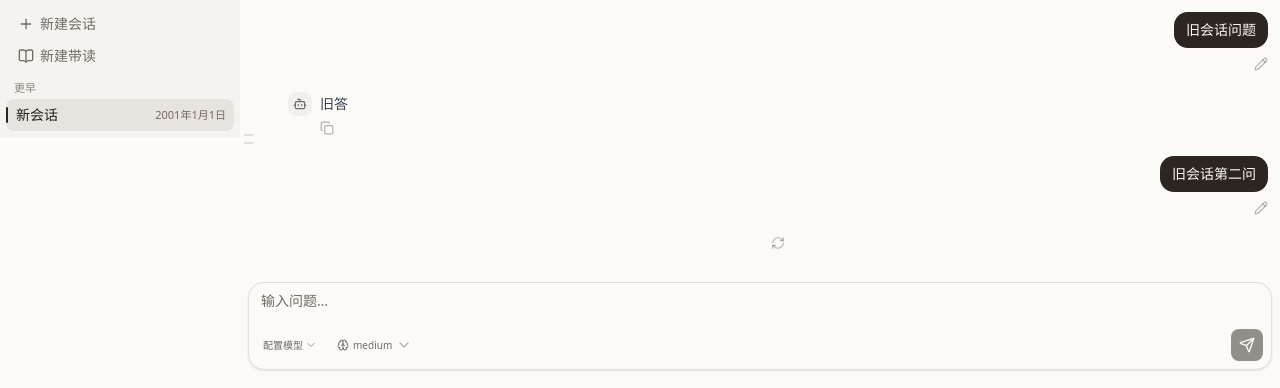
ChatPanel scroll behavior › does not leak outline preview across session or book changes
Hover over the element with test id "chat-outline-slot-0" at (258, 135), box [240,131,276,139]
Wait 150 ms
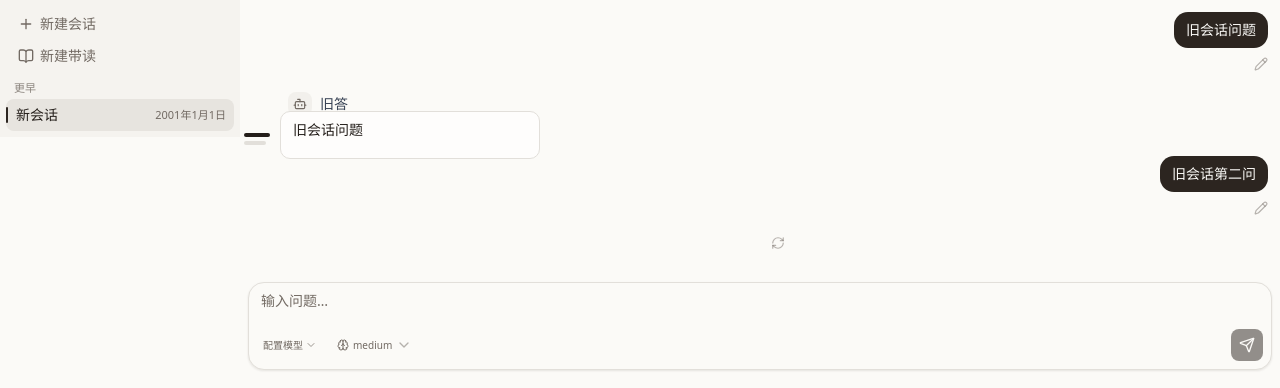
Result: the element with test id "chat-outline-preview" reads "旧会话问题" at [293,120,363,139]
